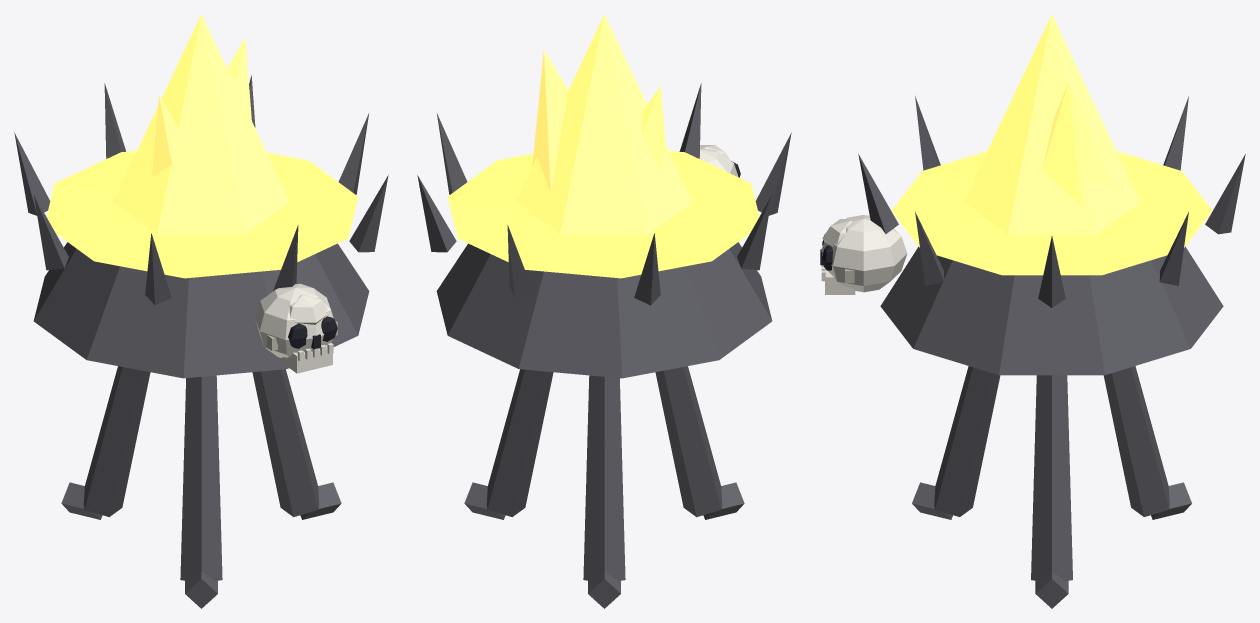
Rendered from brazier.glb.
3 renders of one model, left to right at view 1: azimuth 30°, elevation 25°; view 2: azimuth 150°, elevation 25°; view 3: azimuth 270°, elevation 25°, orthographic.
Visible parts, largest first — view 1: brazier; view 2: brazier; view 3: brazier.
Part boxes in pixels (bbox=[...]): brazier: bbox=[14, 14, 388, 608]; brazier: bbox=[417, 14, 791, 608]; brazier: bbox=[820, 14, 1245, 608].
Bounding box in the file's own units: 1.4 × 2.11 × 1.54.
